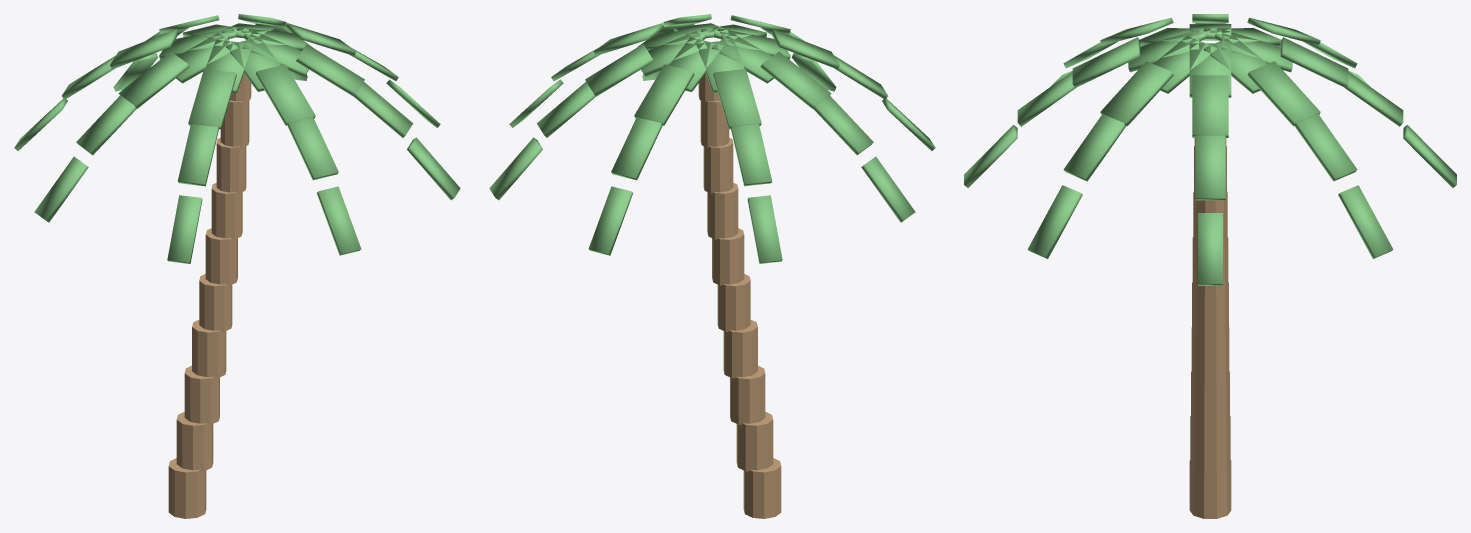
File: Palm.fbx
The picture shows the model from 3 angles, left to right: view 1: azimuth 30°, elevation 25°; view 2: azimuth 150°, elevation 25°; view 3: azimuth 270°, elevation 25°; orthographic projection. The views are drawn at different scales.
Visible parts, largest first — view 1: Leaf.001, Wood.001; view 2: Leaf.001, Wood.001; view 3: Leaf.001, Wood.001.
Boxes of the visible parts, x1,y1,x2,y2 form: Leaf.001: (14,14,460,263); Wood.001: (168,74,251,518); Leaf.001: (489,14,935,263); Wood.001: (698,74,781,518); Leaf.001: (964,14,1456,285); Wood.001: (1189,138,1231,518).
Size of the model in its own units: 1066 by 1190 by 1066.
